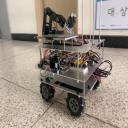cart: (32, 39, 106, 118)
